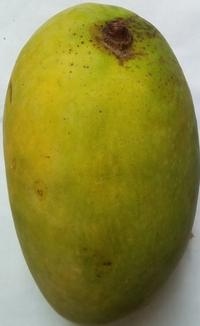PartiallyRipe: (1, 1, 200, 326)
